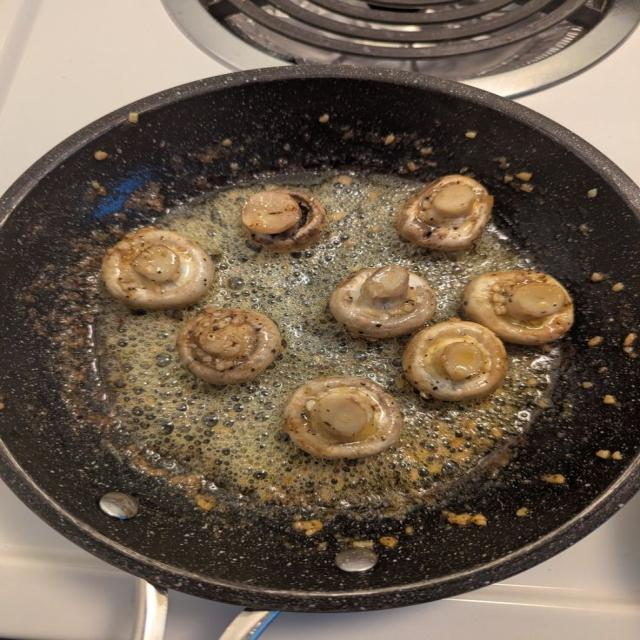champignon mushrooms: (284, 377, 402, 459), (102, 227, 213, 309), (403, 320, 506, 400), (464, 271, 573, 344), (177, 309, 281, 385), (330, 265, 435, 339), (396, 175, 493, 250), (242, 190, 326, 252)
